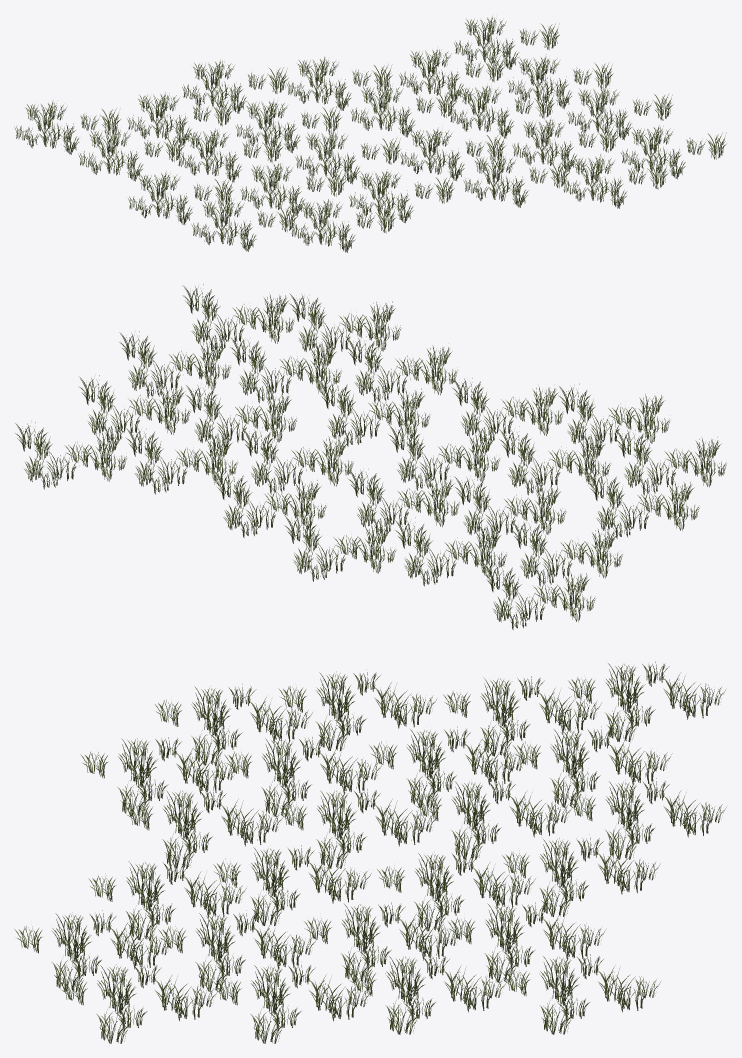
Rendered from Grass15.fbx.
The picture shows the model from 3 angles, top to bottom: view 1: azimuth 30°, elevation 25°; view 2: azimuth 150°, elevation 25°; view 3: azimuth 270°, elevation 25°; orthographic projection. The views are drawn at different scales.
Parts seen in each view (by area): view 1: LV_Veolan_Foliage_FieldGrass02_PM_YCY.006; view 2: LV_Veolan_Foliage_FieldGrass02_PM_YCY.006; view 3: LV_Veolan_Foliage_FieldGrass02_PM_YCY.006.
Part boxes in pixels (x1,y1,x2,y2): LV_Veolan_Foliage_FieldGrass02_PM_YCY.006: (14, 16, 726, 252); LV_Veolan_Foliage_FieldGrass02_PM_YCY.006: (15, 284, 726, 629); LV_Veolan_Foliage_FieldGrass02_PM_YCY.006: (14, 661, 726, 1043).
Bounding box in the file's own units: 4.82 × 0.185 × 3.95.
Materials: 24 (24 with a texture image).
